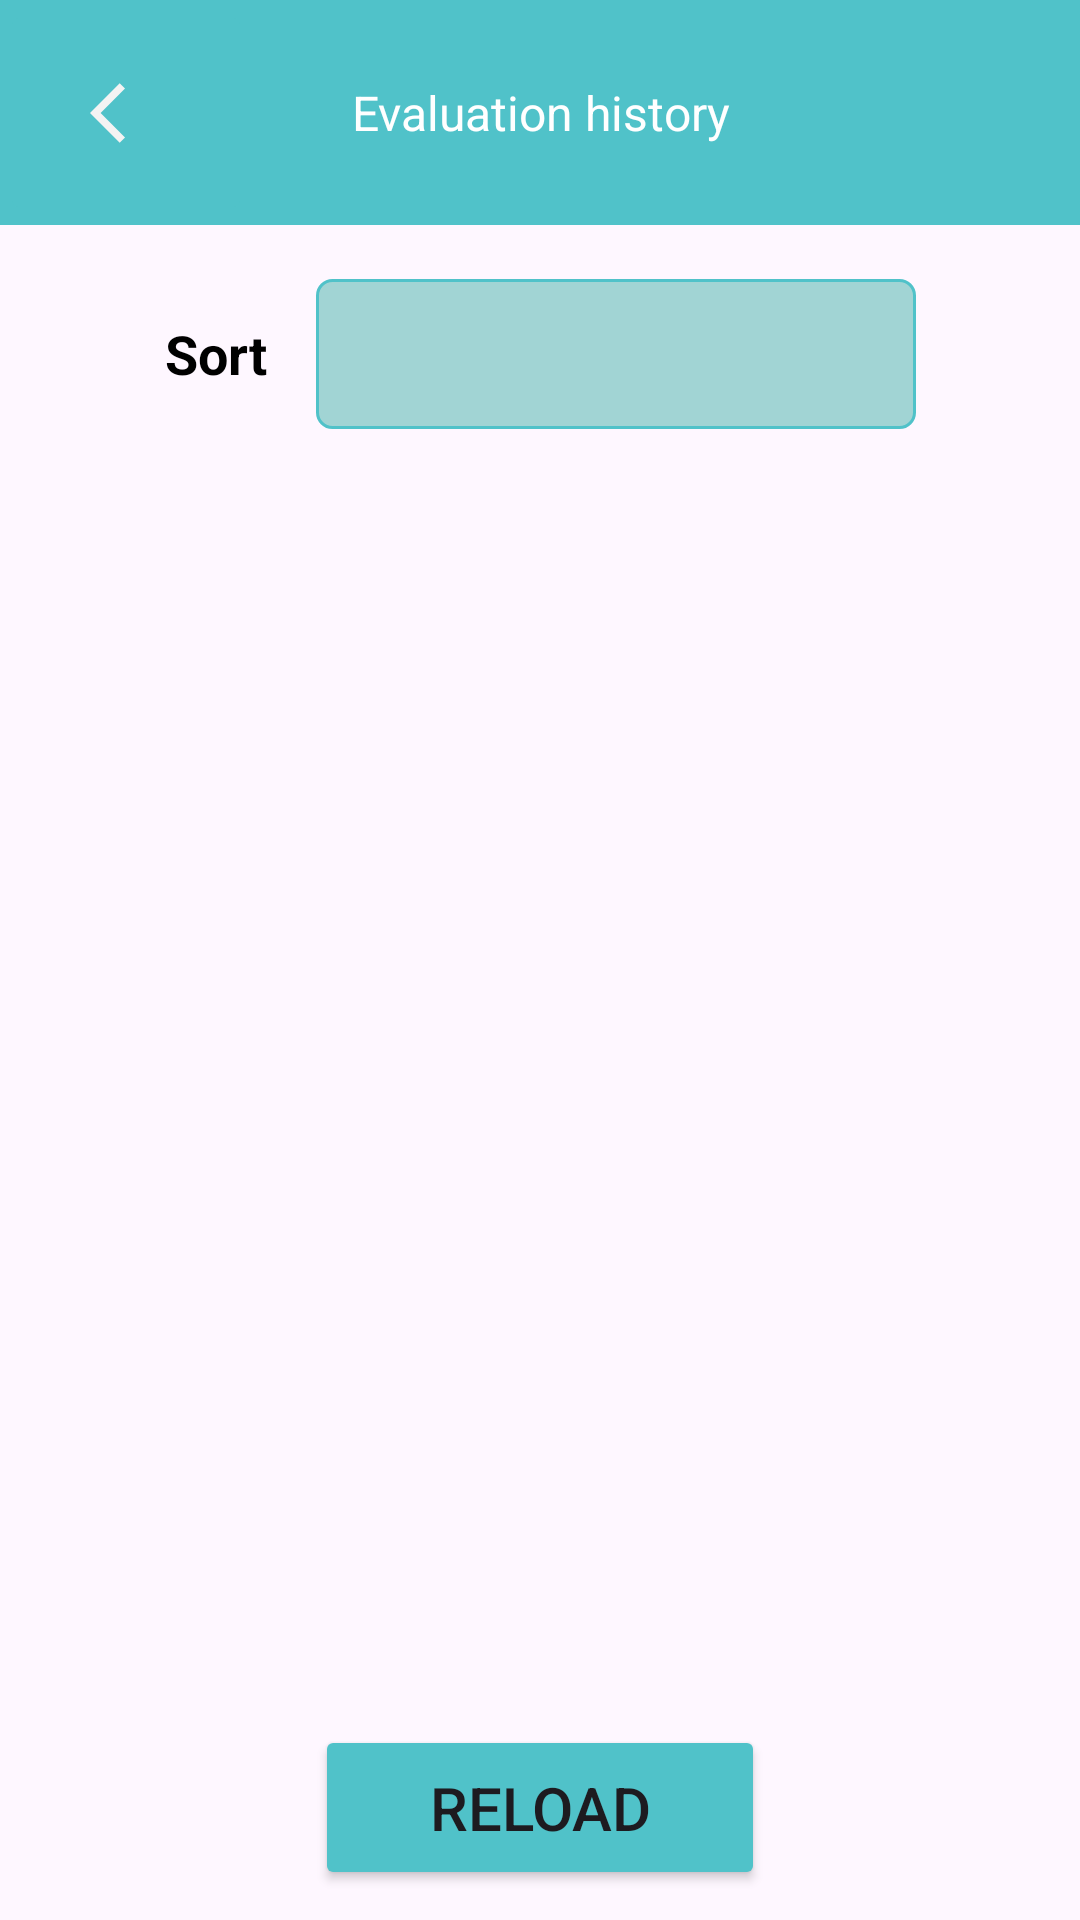

Screen size 1080 x 1920. Icon name, then its center in pixels as [x,y]:
arrow left: [107,113]
